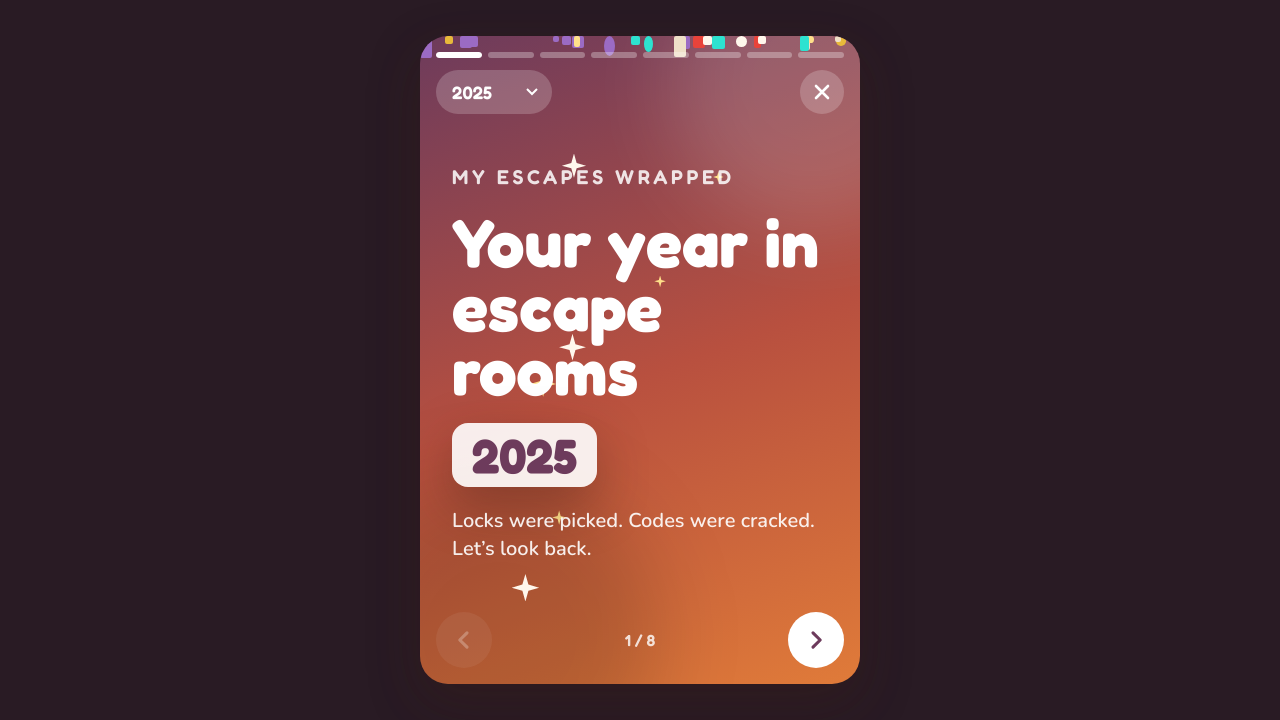
Scenario: WrapOverlay › switches year and shows the no-escape fallback
The width and height of the screenshot is (1280, 720).
Select "2024" in the dropdown with test id "wrap-year" at (494, 92), box [436,70,552,114]
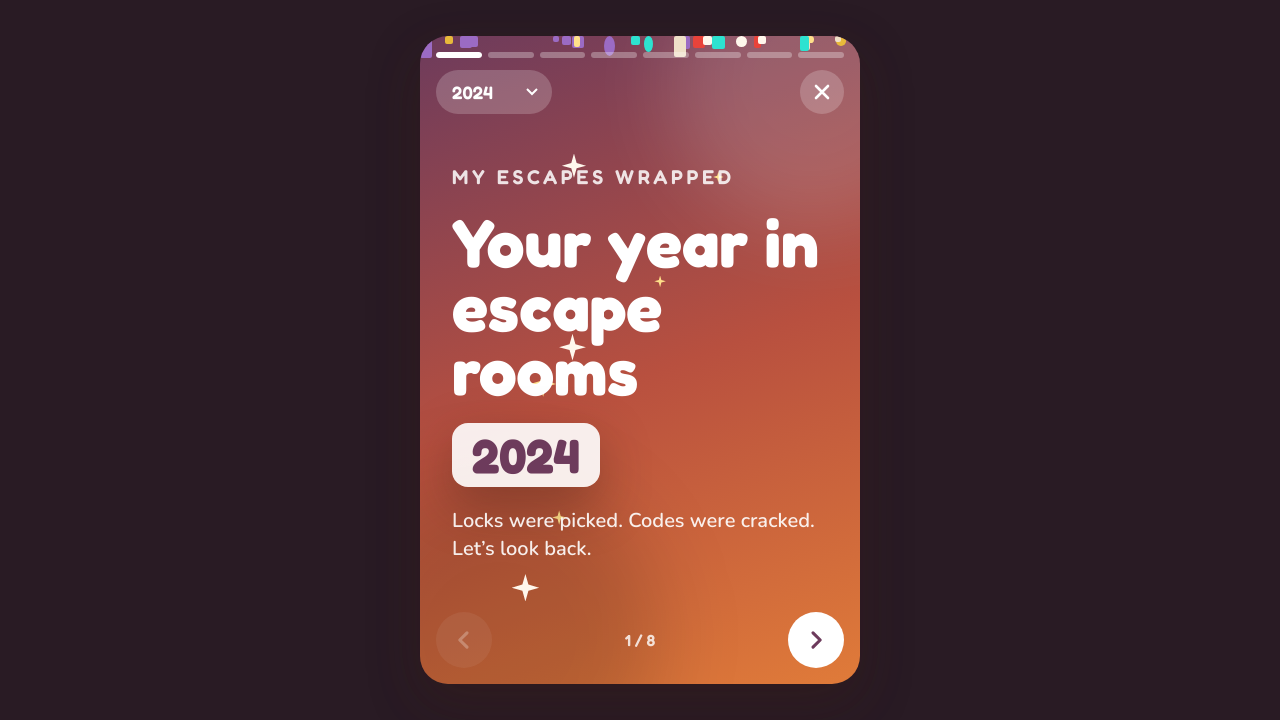
Click the button with test id "wrap-next" at (816, 640), box [788,612,844,668]
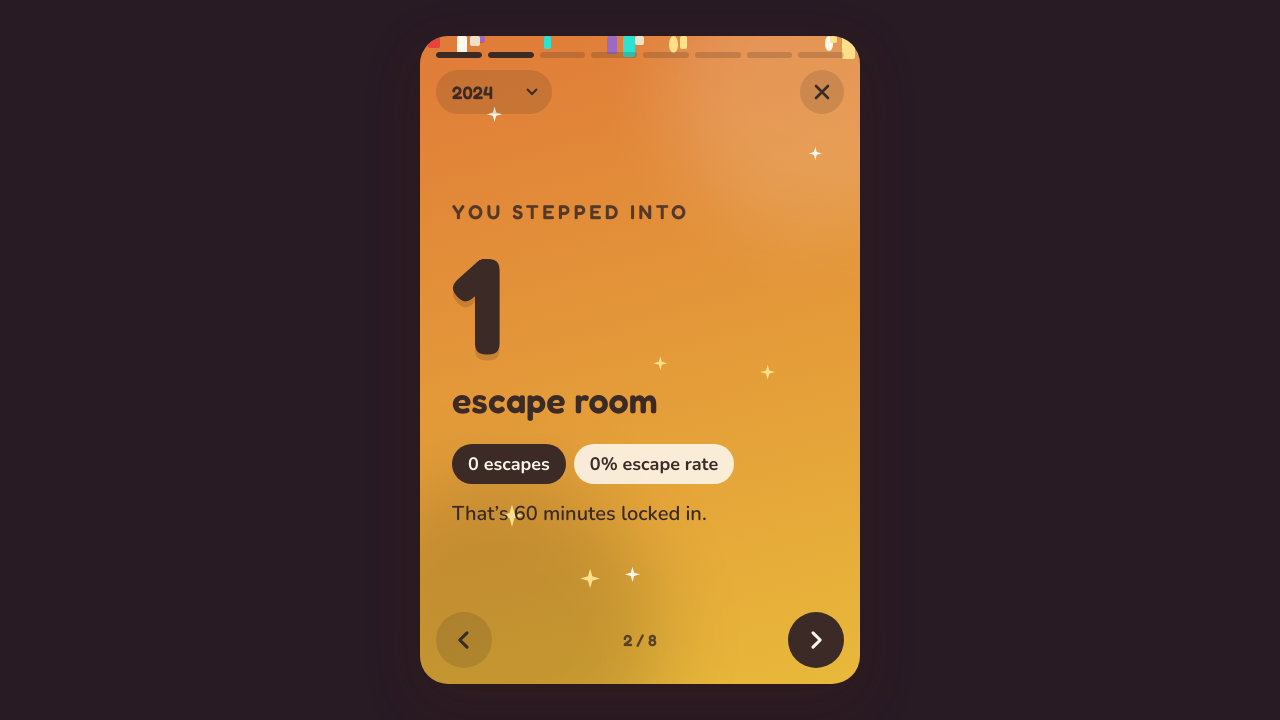
Click the button with test id "wrap-next" at (816, 640), box [788,612,844,668]
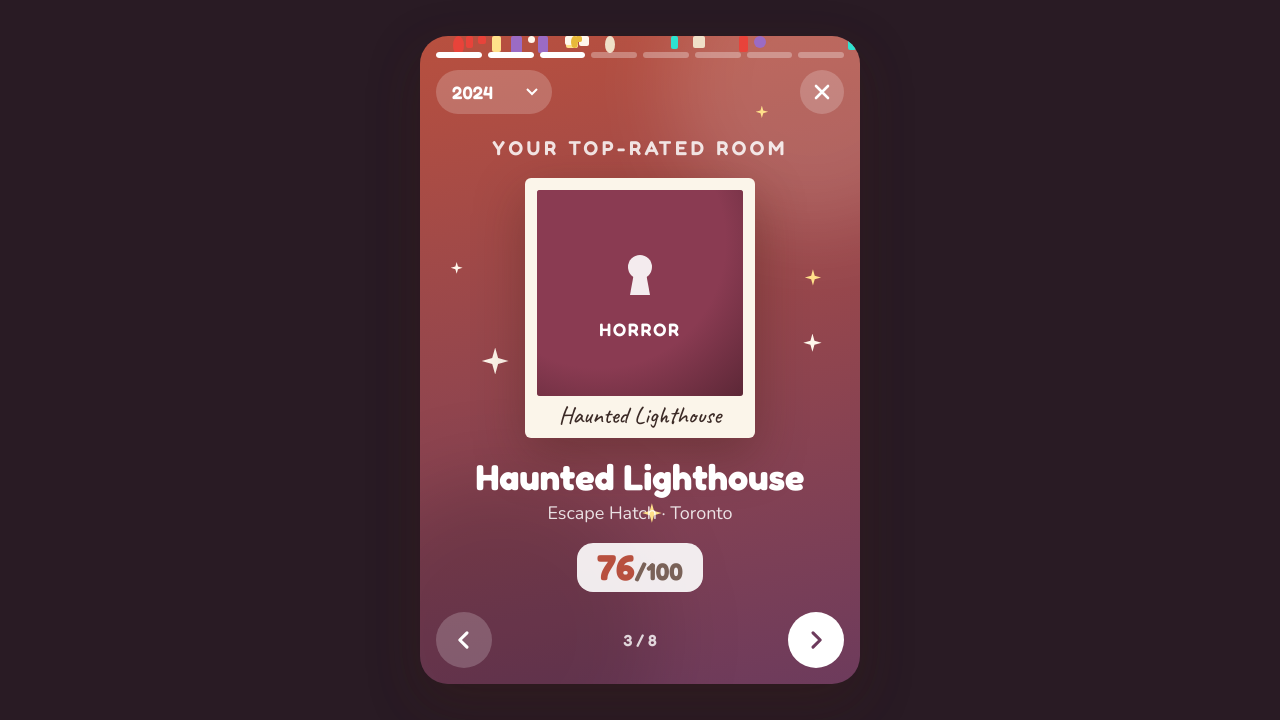
Click the button with test id "wrap-next" at (816, 640), box [788,612,844,668]
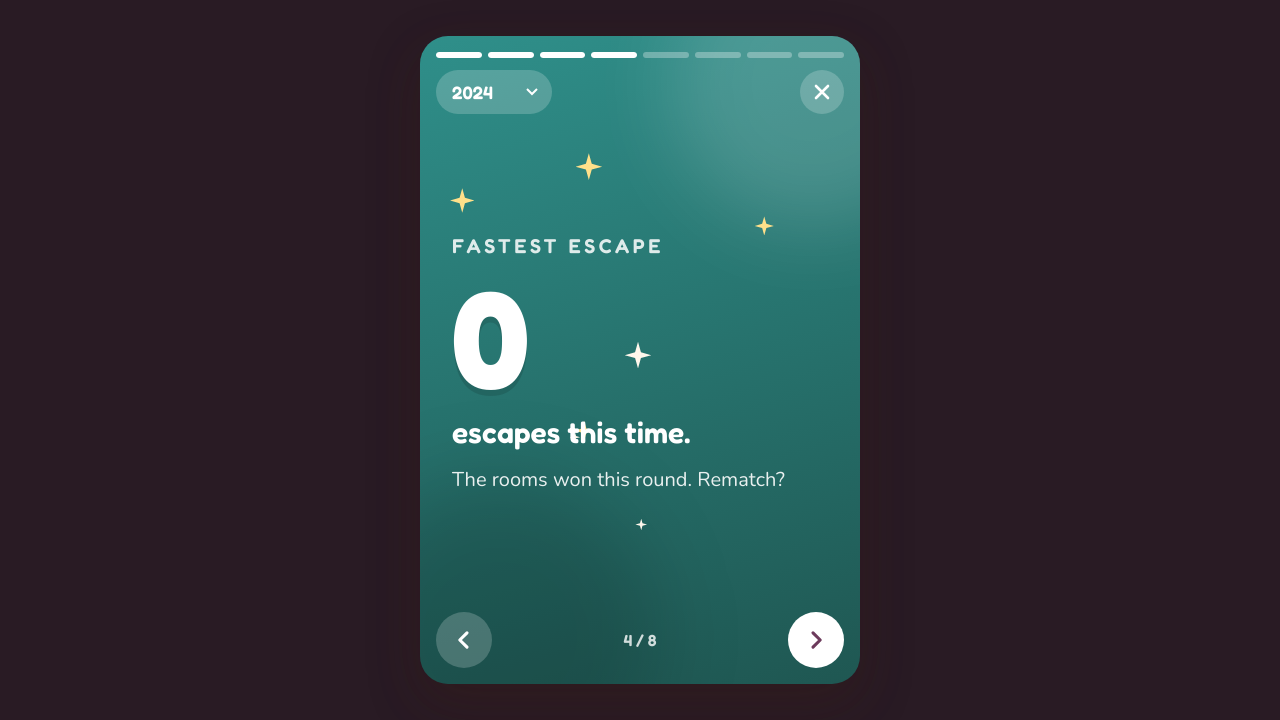
Expected: the text "escapes this time." is shown, [452,414,691,450]
